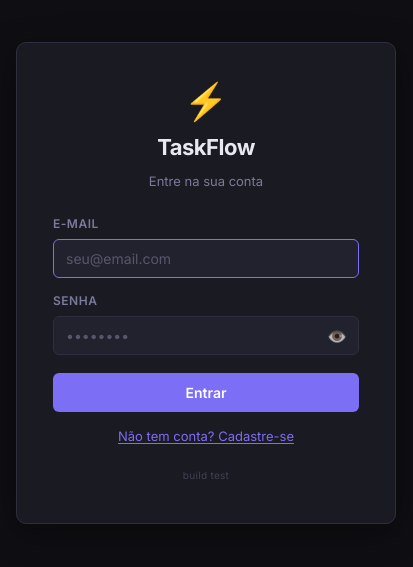
Test: LoginPage › mostra fallback amigável quando o erro não tem mensagem
In the field with placeholder "seu@email.com": {"x": 206, "y": 259} [53,239,359,278], type "a@b.com"
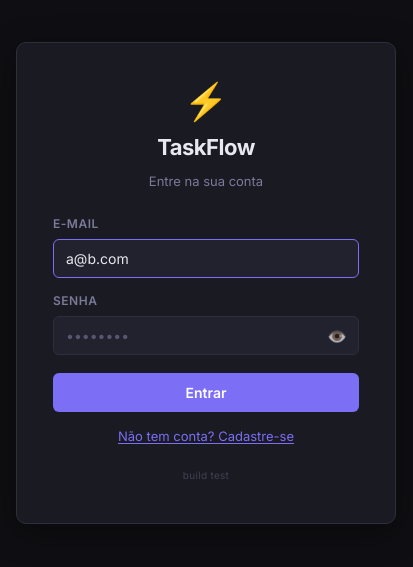
In the password field with placeholder "••••••••": {"x": 206, "y": 336} [53,316,359,355], type "12345678"
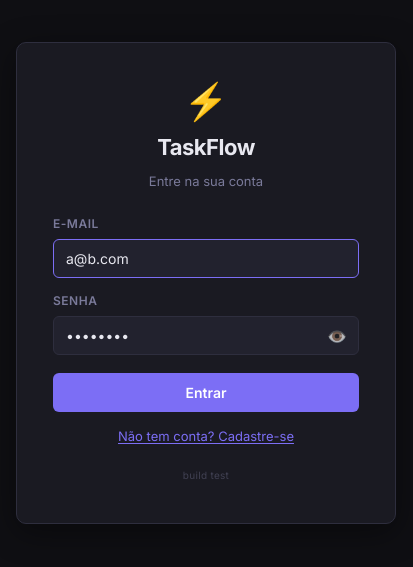
Click the button "Entrar": {"x": 206, "y": 393} [53,373,359,412]
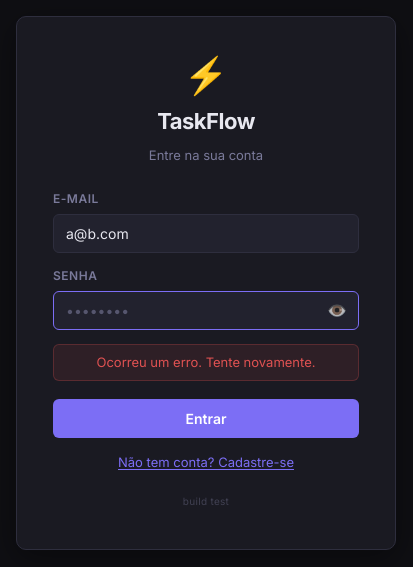
Now the text "Ocorreu um erro. Tente novamente." is shown, box [53,344,359,381]
